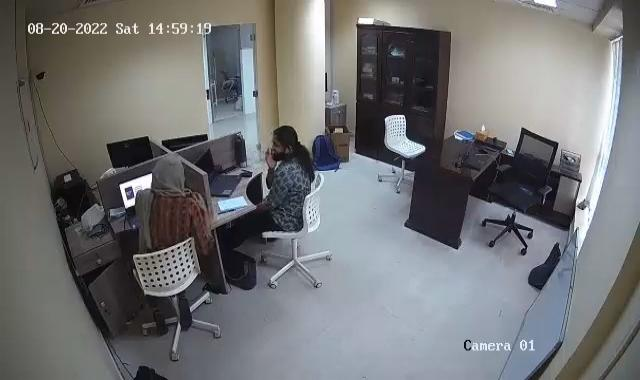no_hairnet: (151, 152, 188, 203), (262, 122, 303, 166)
